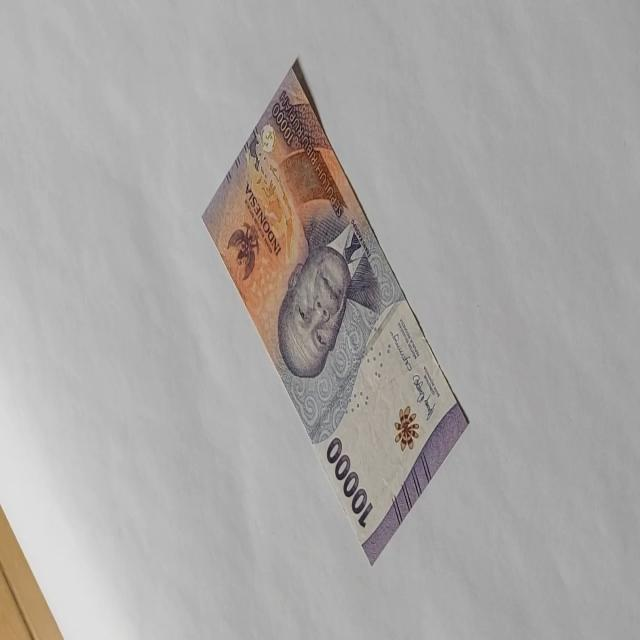sepuluh ribu rupiah: (200, 56, 470, 566)
